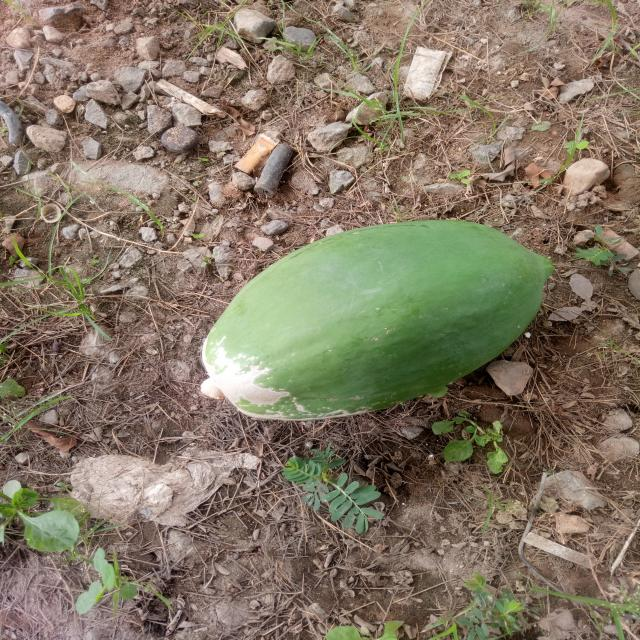Pepaya unrippen: (200, 223, 560, 418)
